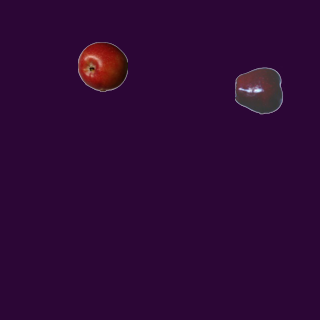Apple Braeburn: (77, 41, 127, 91)
Apple Red Delicious: (234, 65, 284, 115)
